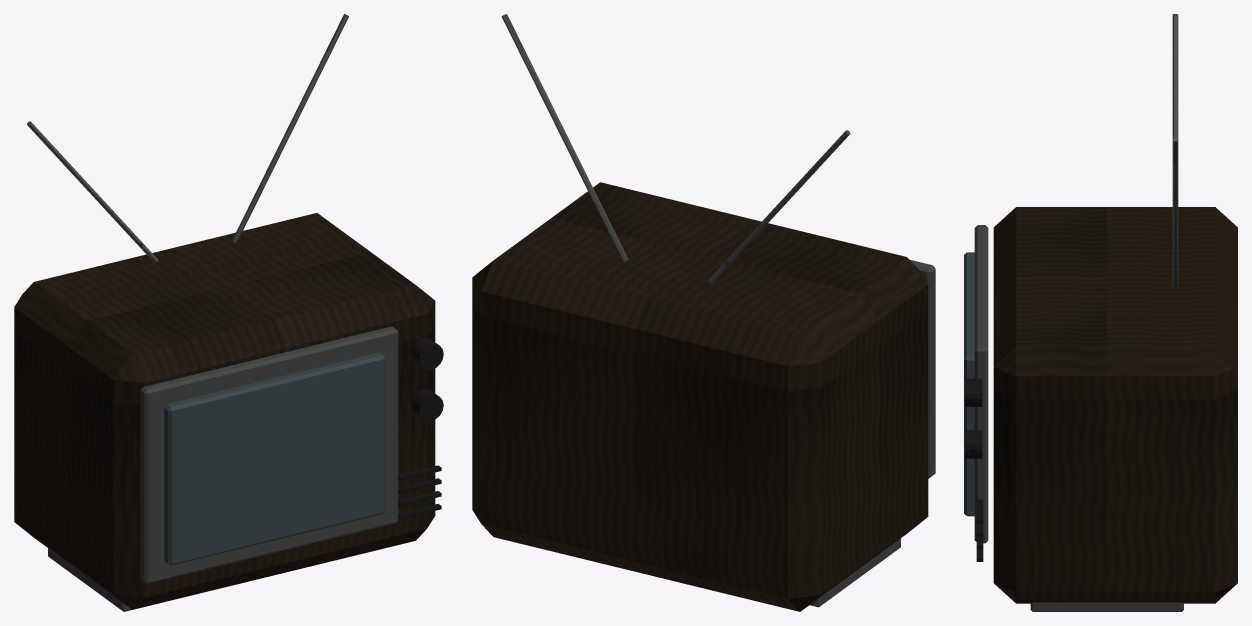
Rendered from tv_crt.glb.
The picture shows the model from 3 angles, left to right: view 1: azimuth 30°, elevation 25°; view 2: azimuth 150°, elevation 25°; view 3: azimuth 270°, elevation 25°; orthographic projection. The views are drawn at different scales.
Parts seen in each view (by area): view 1: PROP_tv_crt; view 2: PROP_tv_crt; view 3: PROP_tv_crt.
Part boxes in pixels (x1,y1,x2,y2): PROP_tv_crt: (14, 14, 443, 611); PROP_tv_crt: (472, 14, 935, 611); PROP_tv_crt: (964, 14, 1237, 611).
Bounding box in the file's own units: 0.6734 × 0.9277 × 0.482.
Materials: 5 (3 with a texture image).
